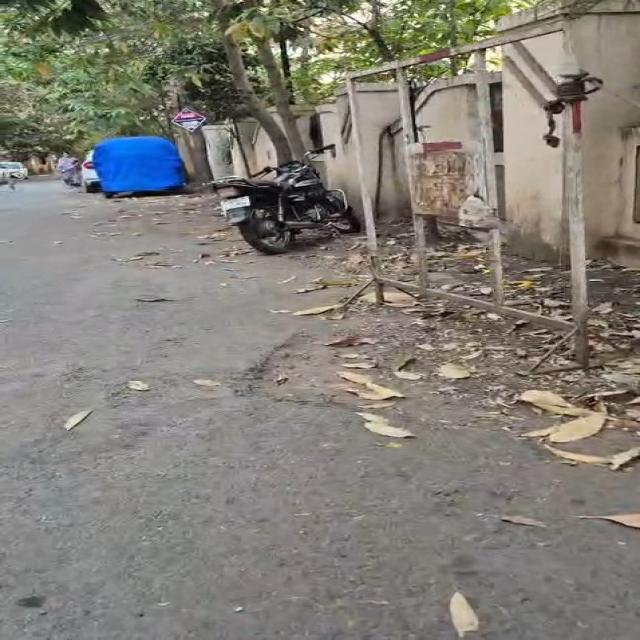obstacle: (215, 0, 293, 164), (347, 80, 384, 304), (563, 100, 589, 367), (563, 102, 589, 367), (397, 68, 428, 287), (255, 36, 305, 158), (256, 38, 305, 158), (474, 50, 498, 218)
vehical: (212, 145, 361, 254)
